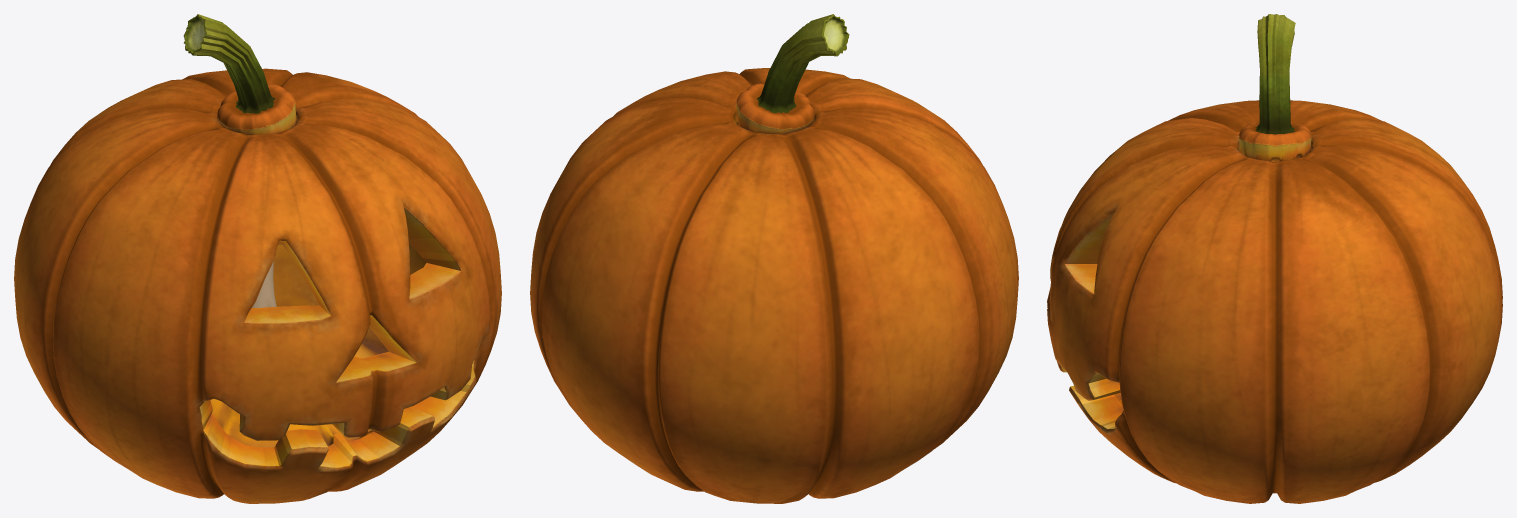
Rendered from Pumpkin 2.fbx.
The picture shows the model from 3 angles, left to right: view 1: azimuth 30°, elevation 25°; view 2: azimuth 150°, elevation 25°; view 3: azimuth 270°, elevation 25°; orthographic projection. The views are drawn at different scales.
Visible parts, largest first — view 1: PRP_Pumpkin_01, PRP_Pumpkin_steam_01, PRP_Candel_01; view 2: PRP_Pumpkin_01, PRP_Pumpkin_steam_01; view 3: PRP_Pumpkin_01, PRP_Pumpkin_steam_01.
Part boxes in pixels (x1=…): PRP_Pumpkin_01: x1=14, y1=68, x2=501, y2=503; PRP_Pumpkin_steam_01: x1=183, y1=14, x2=296, y2=134; PRP_Candel_01: x1=252, y1=262, x2=276, y2=307; PRP_Pumpkin_01: x1=530, y1=68, x2=1018, y2=503; PRP_Pumpkin_steam_01: x1=736, y1=14, x2=849, y2=134; PRP_Pumpkin_01: x1=1047, y1=100, x2=1502, y2=503; PRP_Pumpkin_steam_01: x1=1239, y1=14, x2=1311, y2=161.
Size of the model in its own units: 2.1 by 2.16 by 2.11.
